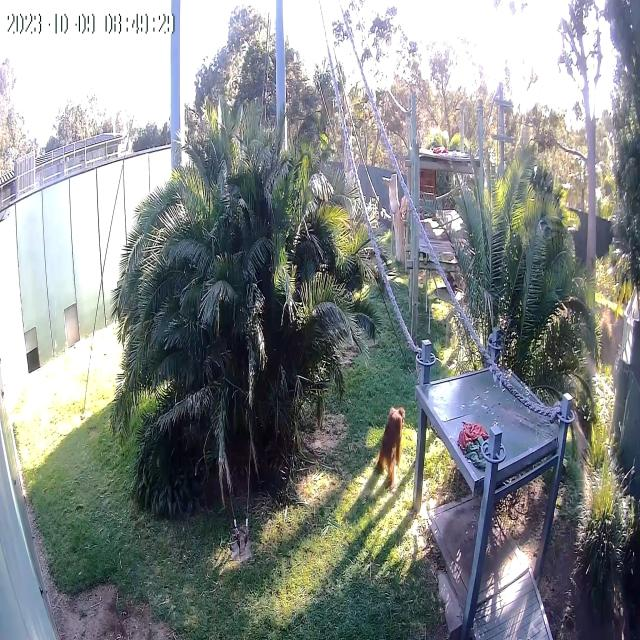orangutan: (377, 406, 405, 490)
